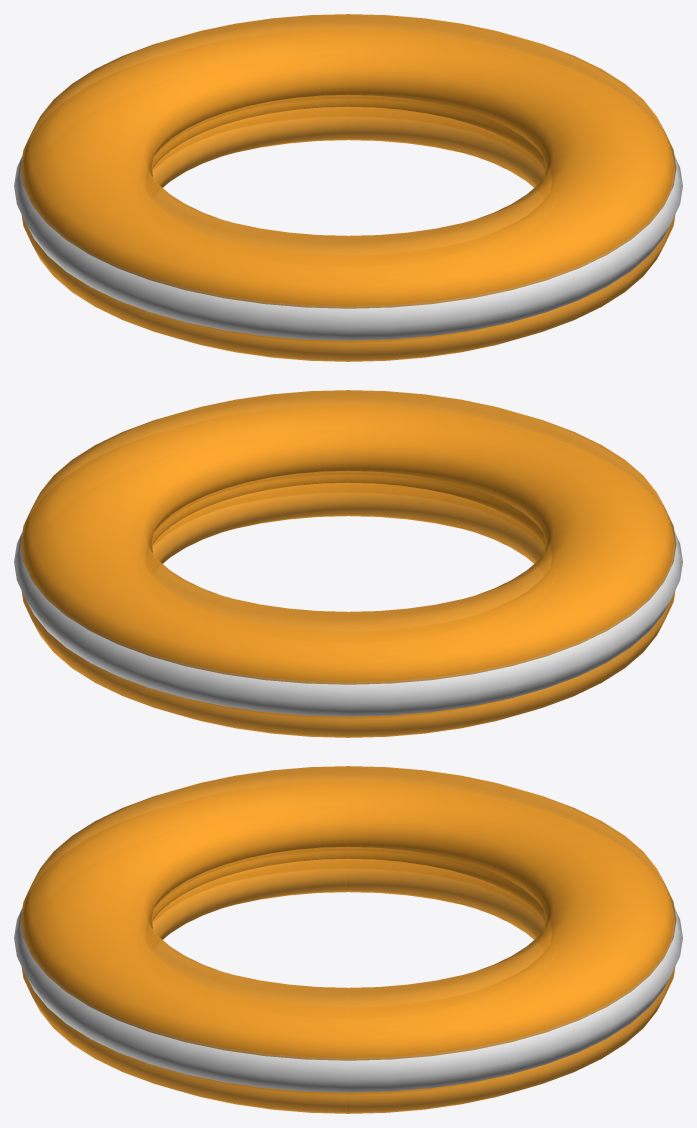
Rendered from jocksweatband.fbx.
3 renders of one model, top to bottom at view 1: azimuth 30°, elevation 25°; view 2: azimuth 150°, elevation 25°; view 3: azimuth 270°, elevation 25°, orthographic.
Visible parts, largest first — view 1: Torus; view 2: Torus; view 3: Torus.
Part boxes in pixels (left/top/right/bottom): Torus: left=14, top=14, right=682, bottom=361; Torus: left=14, top=390, right=682, bottom=737; Torus: left=14, top=766, right=682, bottom=1113.
Size of the model in its own units: 134 by 23.71 by 134.
